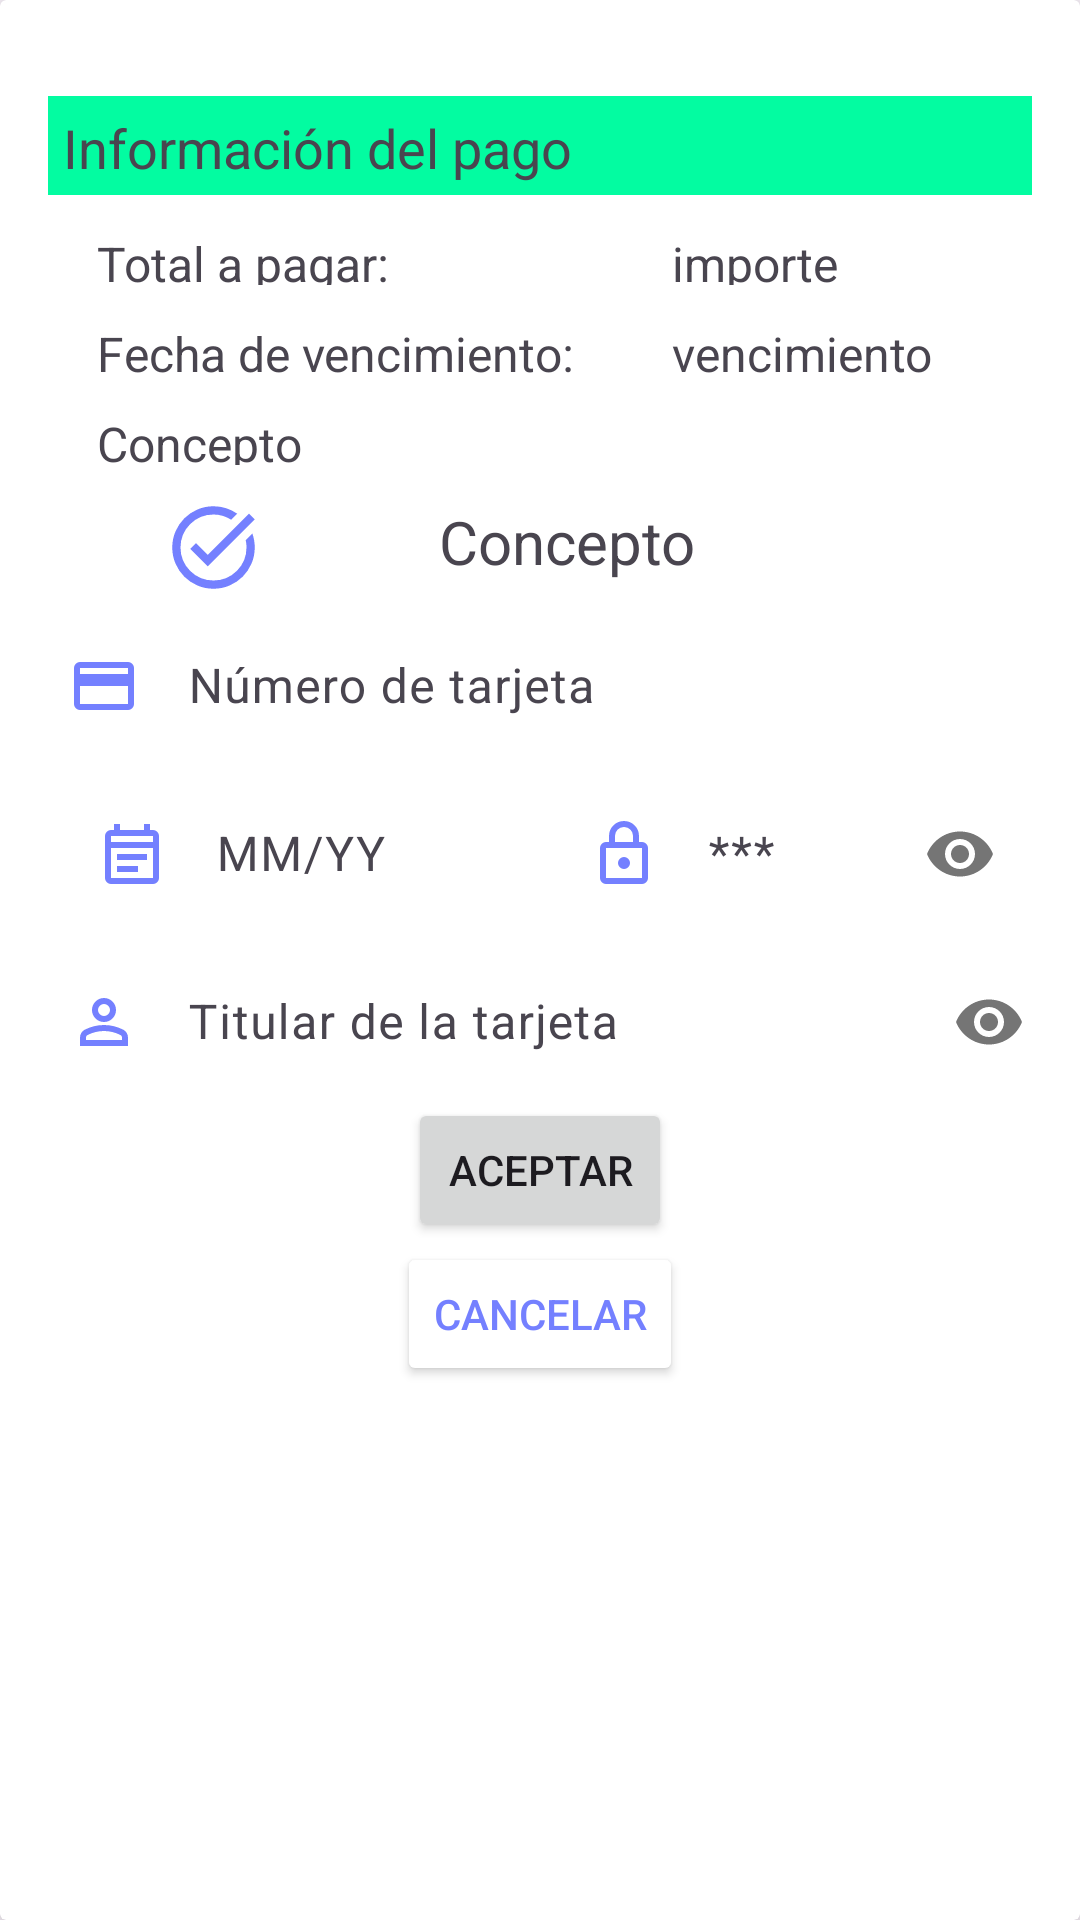

Point at icon controls on the screen. Image size 1080w x 1920h, points as [x,y].
task: [213,547]
